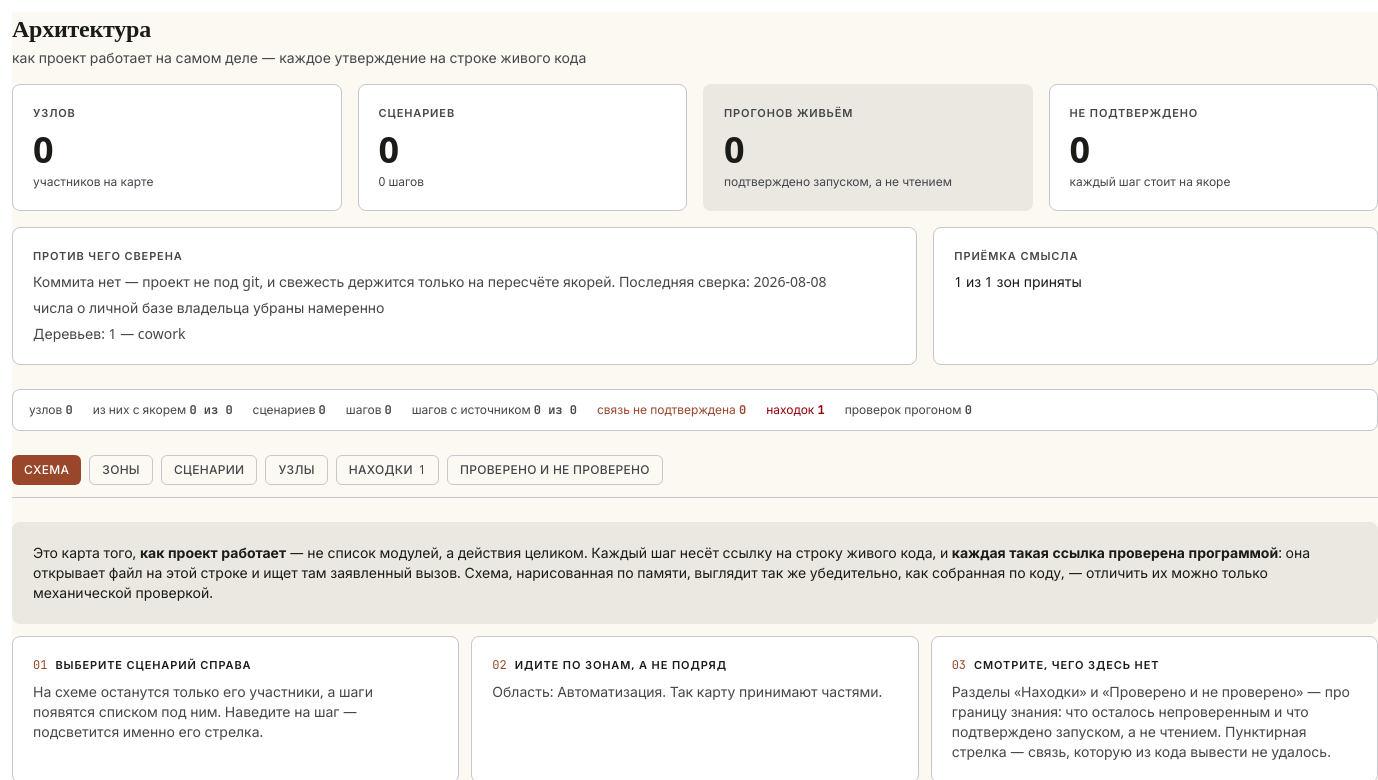
Test: ArchitectureView › говорит, когда карта не подтверждена ни одним прогоном
Click the button "Проверено и не проверено" at coordinates (555, 470), box [447,455,663,485]
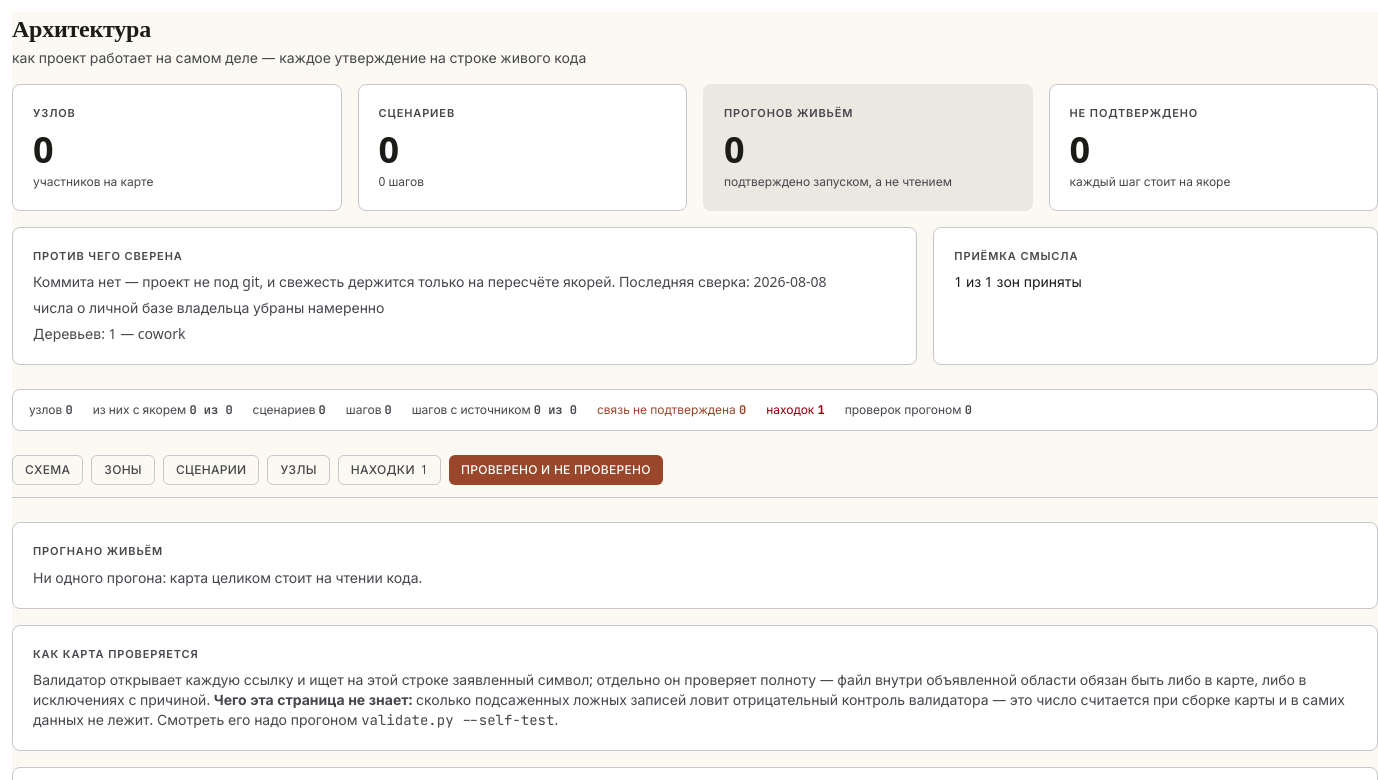
Expected: the text "Ни одного прогона: карта целиком стоит на чтении кода." is shown, [33,568,422,586]
